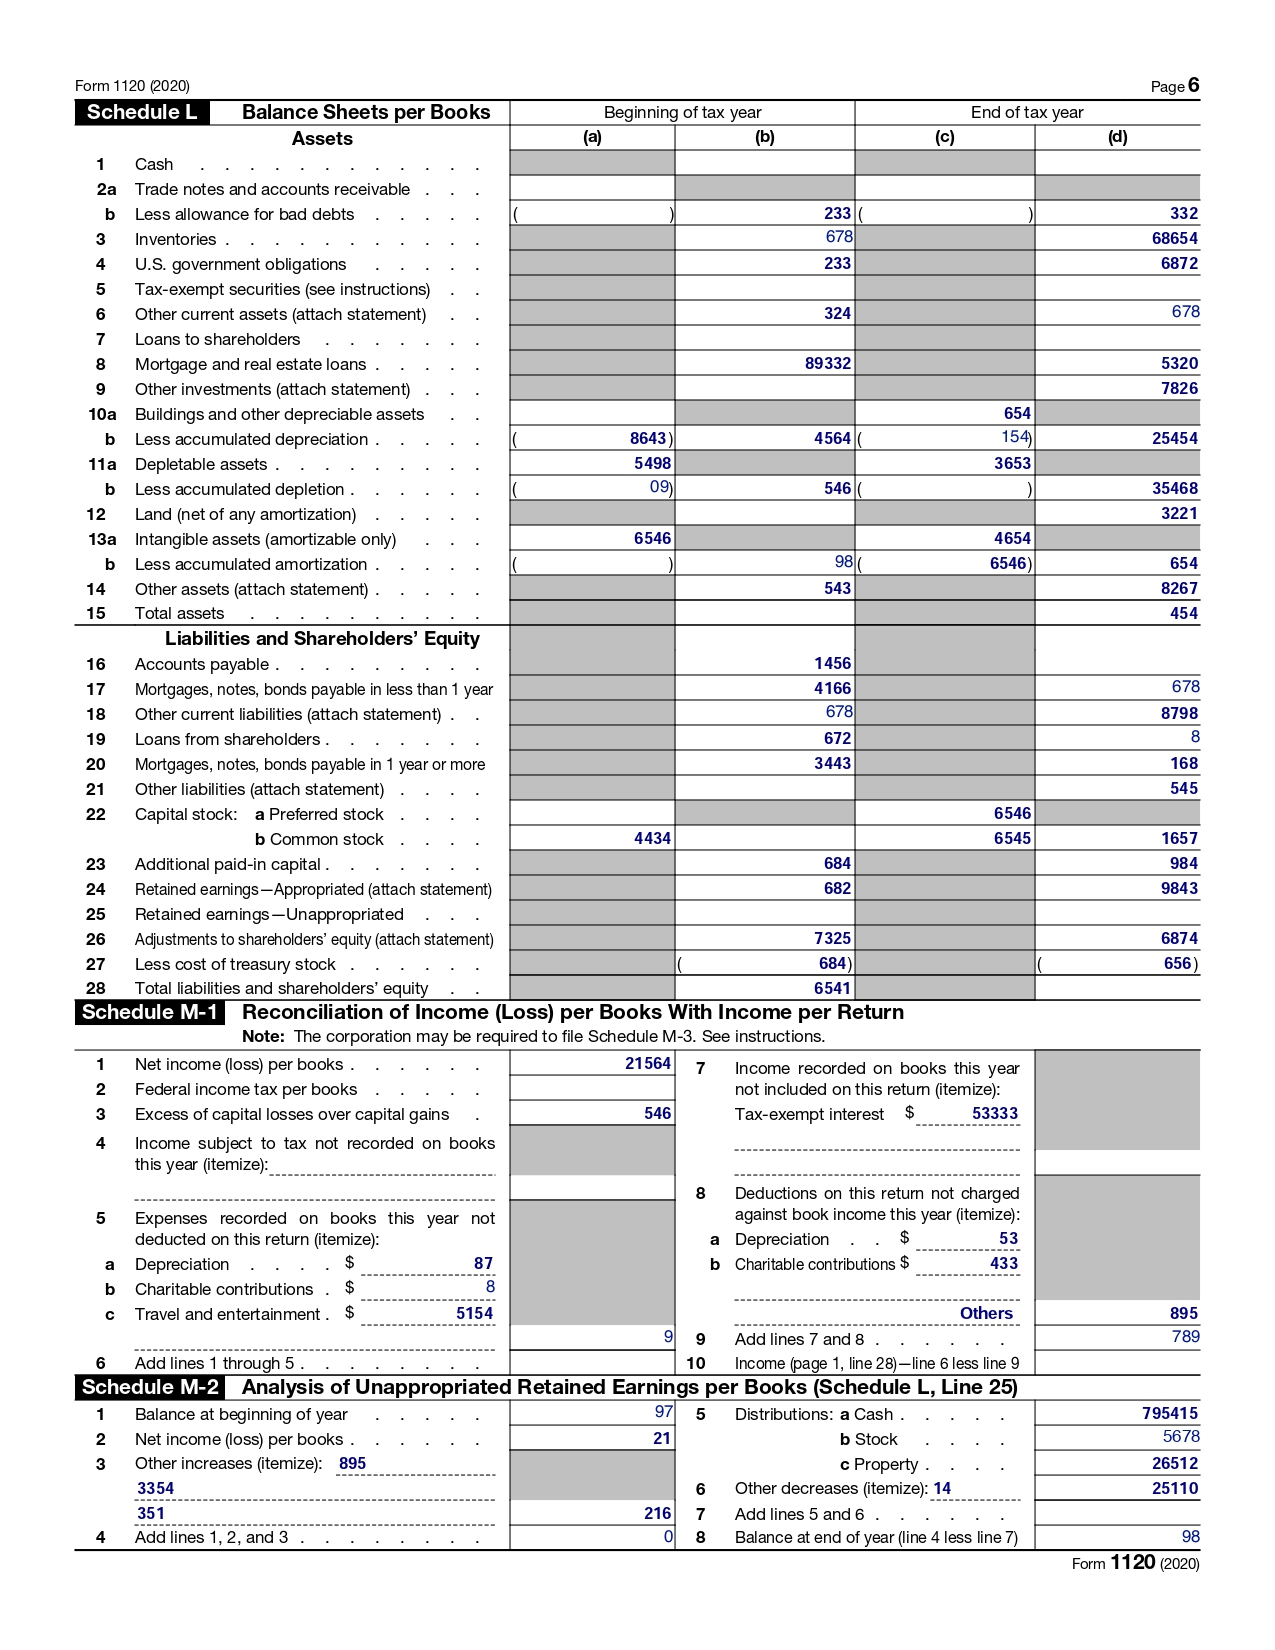table: (56, 96, 1211, 1000), (82, 1043, 682, 1375), (686, 1047, 1220, 1359), (74, 1404, 684, 1560), (688, 1401, 1225, 1547)
